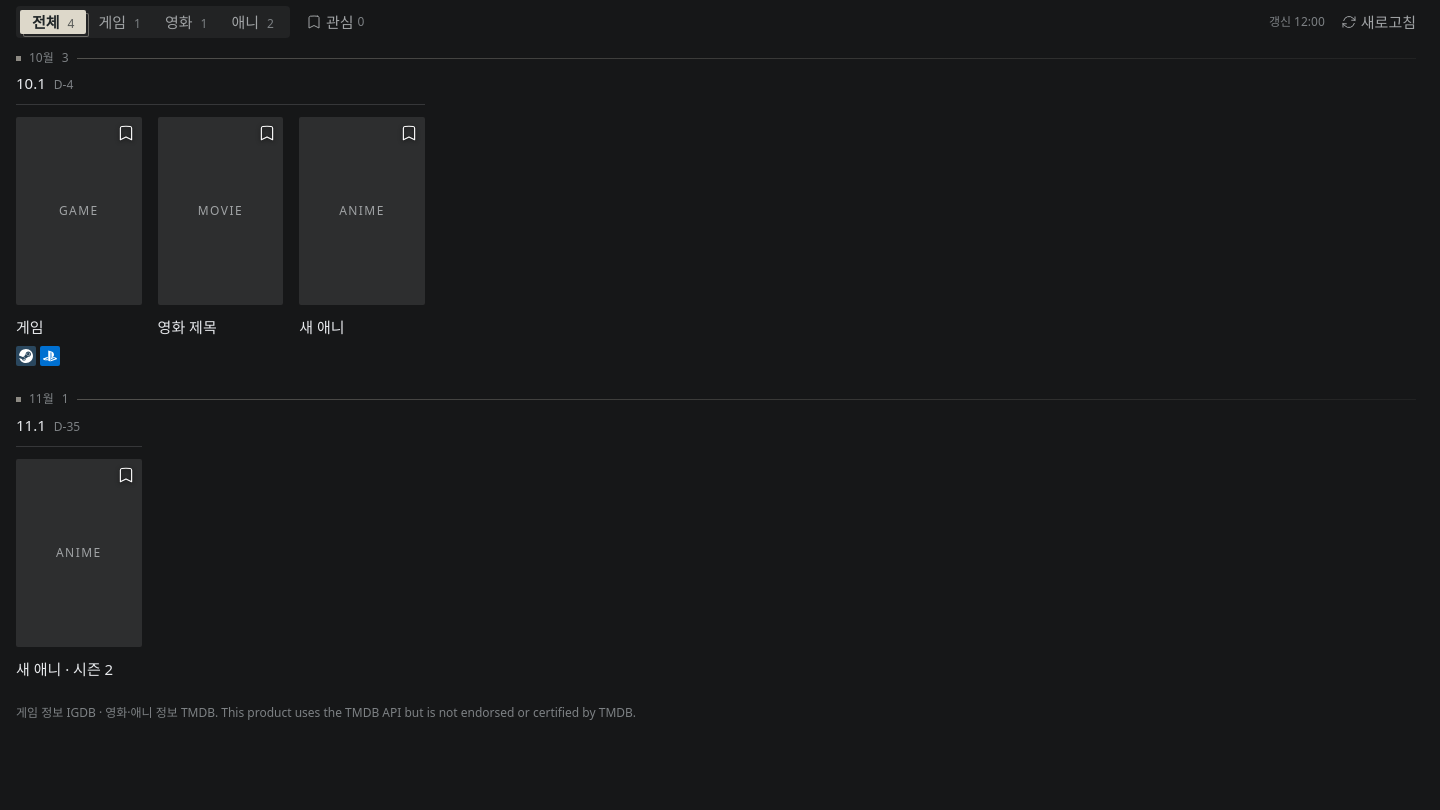
Test: filters anime seasons and uses the same wishlist add and remove flow
The width and height of the screenshot is (1440, 810).
Check: the text "영화 제목" is shown, box [158, 317, 217, 337]
Check: the text "새 애니" is shown, box [299, 317, 344, 337]
What coordinates should you click on to do the following:
click the radio button labelled "애니 2"
I would click on:
 (253, 22)
Its box is [220, 10, 286, 34].
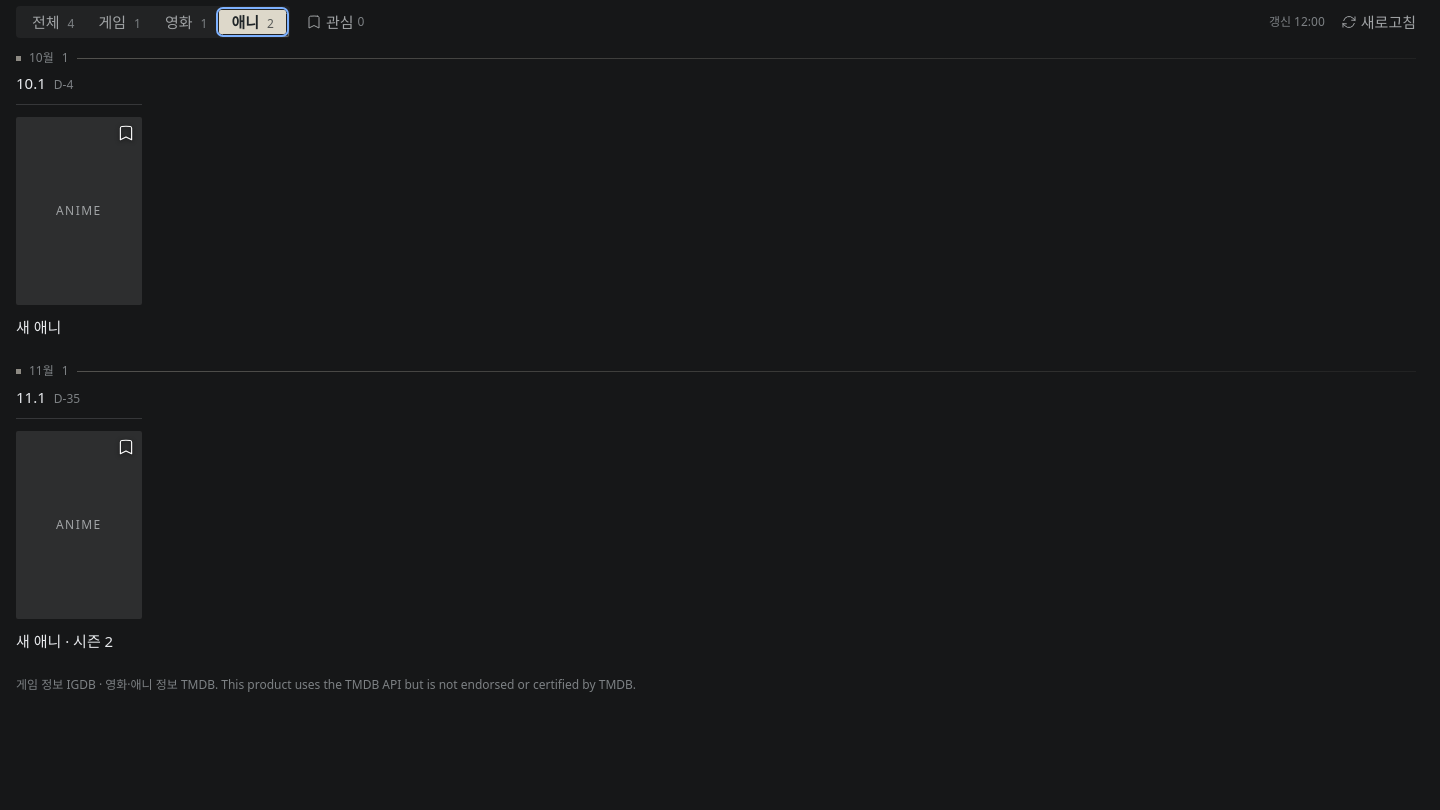
Check: the text "영화 제목" is gone
Check: the text "ANIME" is shown 2 times, box [56, 202, 102, 219]; [56, 516, 102, 533]
What coordinates should you click on to do the following:
click the button named "새 애니 · 시즌 2 관심 목록에 추가"
I would click on:
 (126, 447)
Its box is [110, 431, 142, 463].
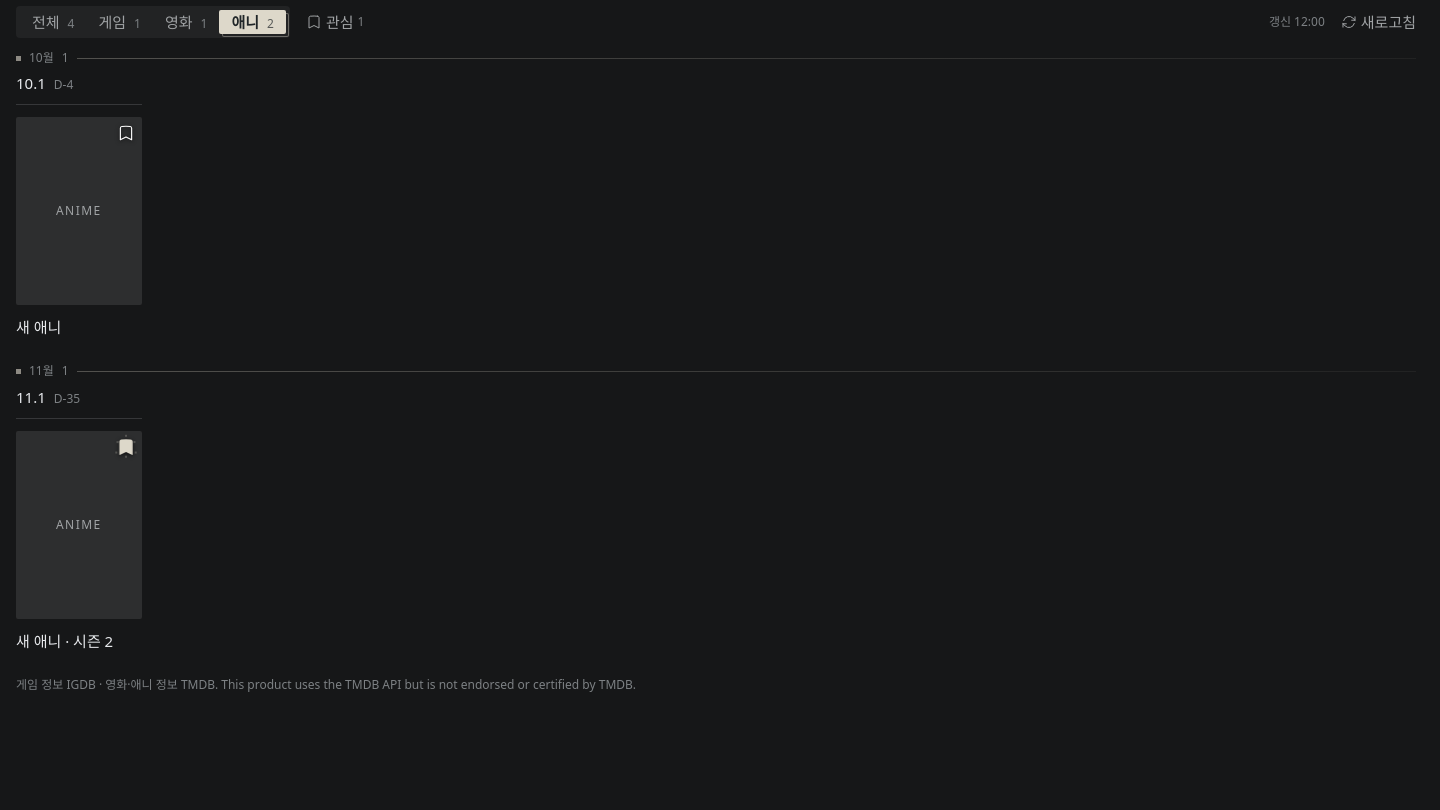
What coordinates should you click on to do the following:
click the button "관심 1"
I would click on:
 (335, 22)
Its box is [298, 8, 372, 36].
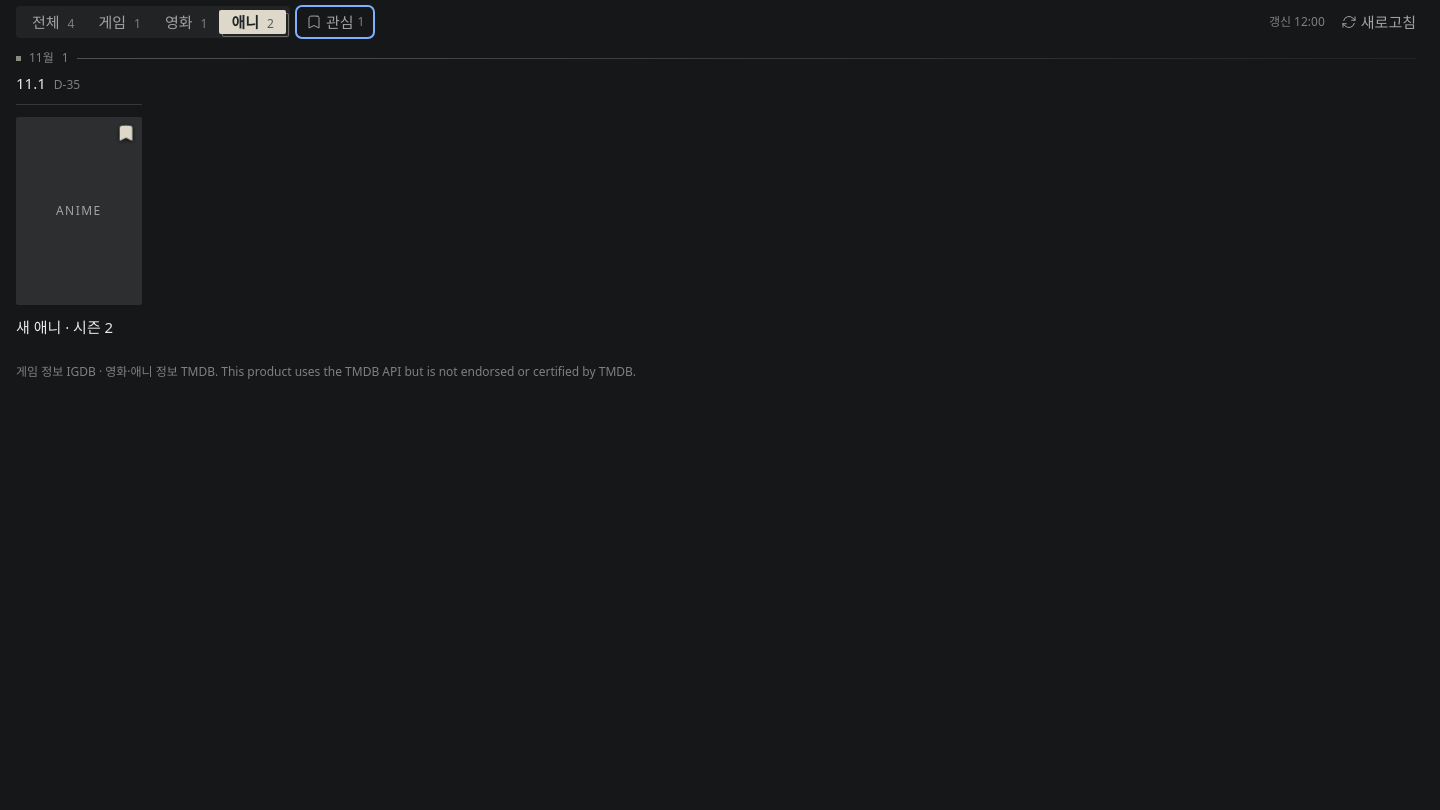
Check: the text "새 애니 · 시즌 2" is shown, box [16, 317, 113, 337]
What coordinates should you click on to do the following:
click the button named "새 애니 · 시즌 2 관심 목록에서 빼기"
I would click on:
 (126, 133)
Its box is [110, 117, 142, 149].
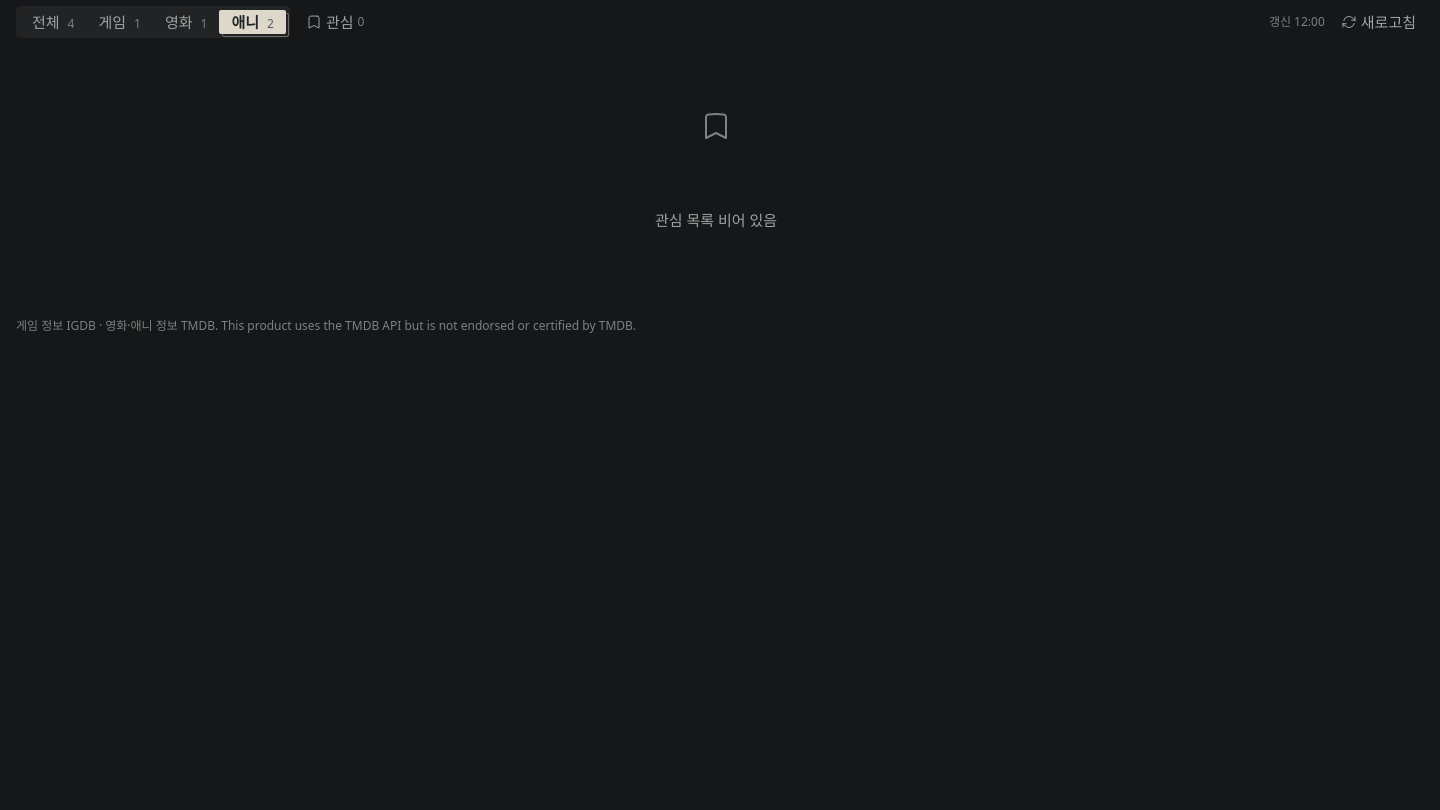
Check: the heading "관심 목록 비어 있음" is shown, box [655, 210, 777, 230]
